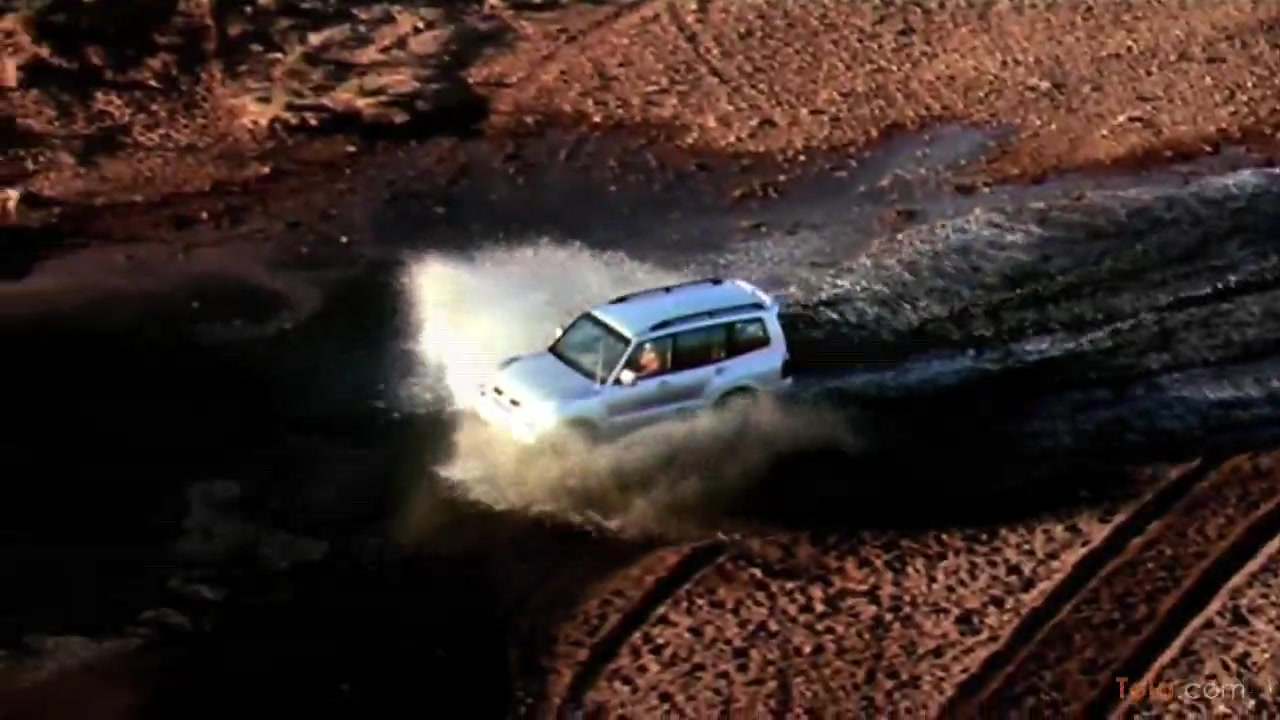car: (474, 276, 805, 471)
